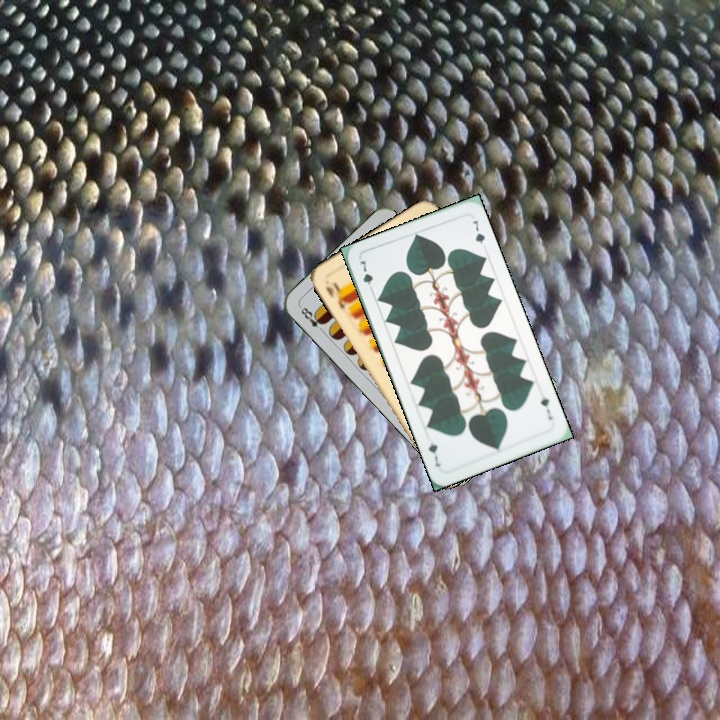E10: (322, 279, 351, 314)
E8: (296, 302, 328, 336)
G7: (355, 256, 376, 295), (536, 393, 555, 422)
